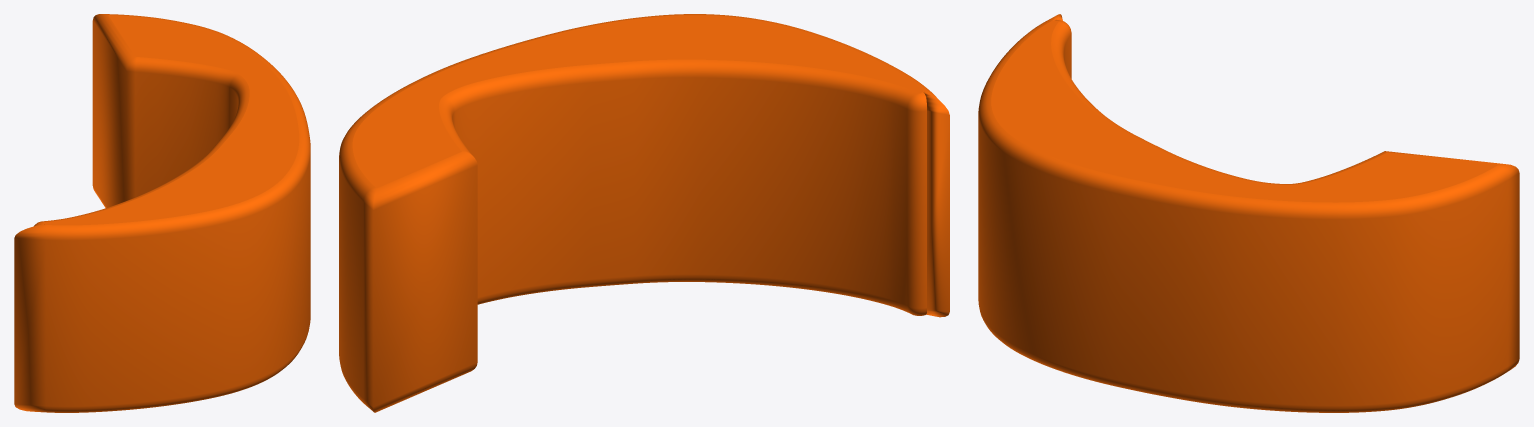
3 views of the same model, side by side, from view 1: azimuth 30°, elevation 25°; view 2: azimuth 150°, elevation 25°; view 3: azimuth 270°, elevation 25° (orthographic). The views are drawn at different scales.
Parts seen in each view (by area): view 1: Text.023; view 2: Text.023; view 3: Text.023.
Part boxes in pixels (x1,y1,x2,y2): Text.023: (14,14,310,412); Text.023: (339,14,949,412); Text.023: (978,14,1519,412).
Bounding box in the file's own units: 37.14 × 18 × 42.17.
